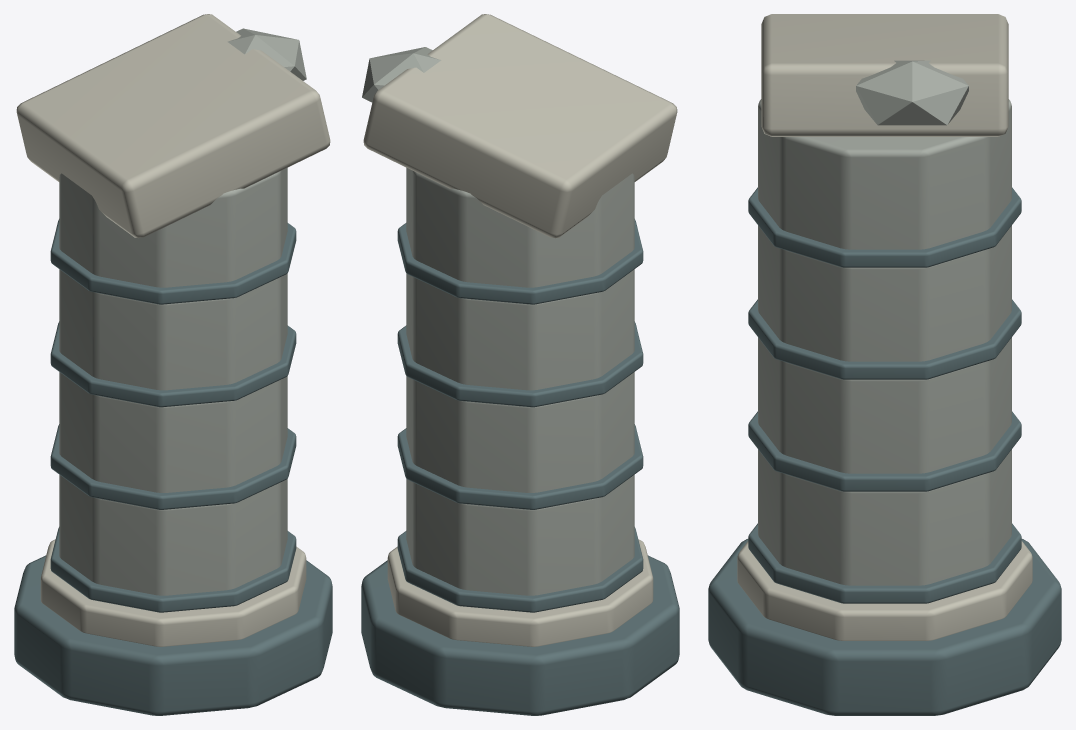
Rendered from SM_RuinPillar_Broken_01.fbx.
3 views of the same model, side by side, from view 1: azimuth 30°, elevation 25°; view 2: azimuth 150°, elevation 25°; view 3: azimuth 270°, elevation 25° (orthographic). The views are drawn at different scales.
Parts seen in each view (by area): view 1: SM_RuinPillar_Broken_01; view 2: SM_RuinPillar_Broken_01; view 3: SM_RuinPillar_Broken_01.
Part boxes in pixels (x1,y1,x2,y2): SM_RuinPillar_Broken_01: (14,14,332,715); SM_RuinPillar_Broken_01: (361,14,679,715); SM_RuinPillar_Broken_01: (708,14,1061,715).
Size of the model in its own units: 1.5 by 3.07 by 1.55.
